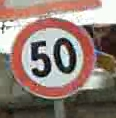limite 50: (11, 17, 92, 100)
